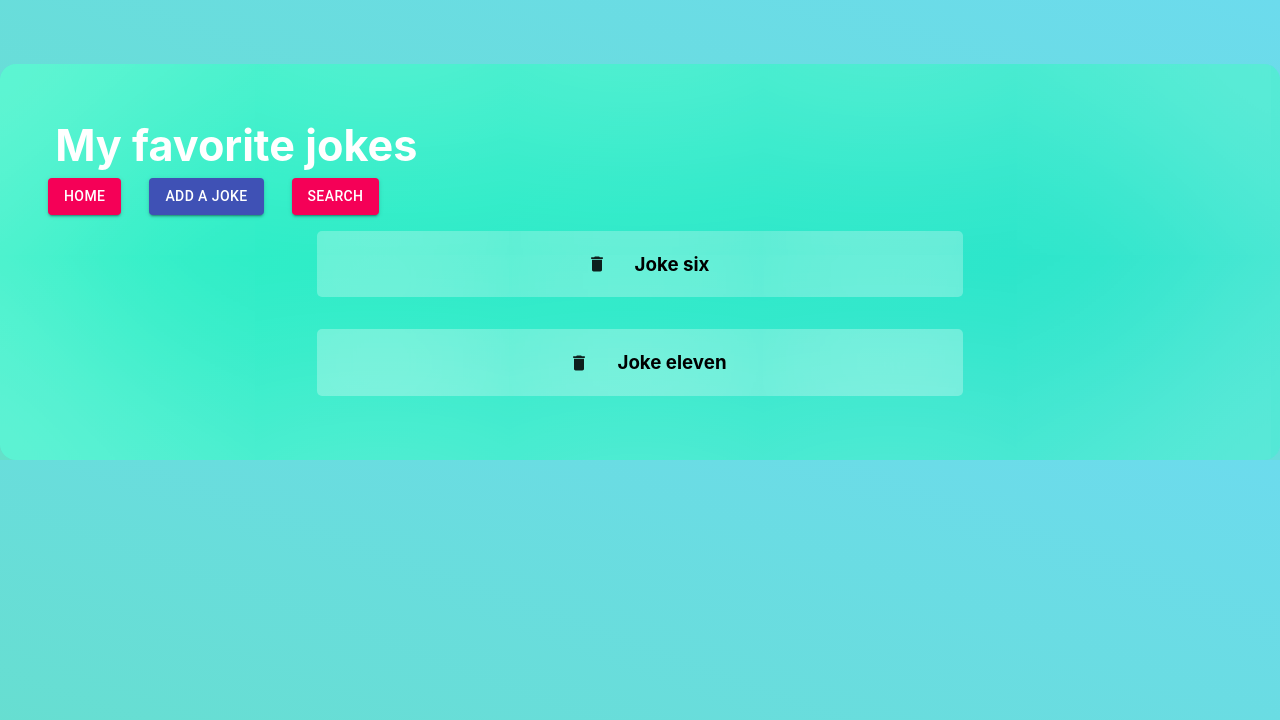
it: Saved › should show a list of jokes that include the search word
Click the button "Search".
click(335, 197)  # box [292,178,379,215]
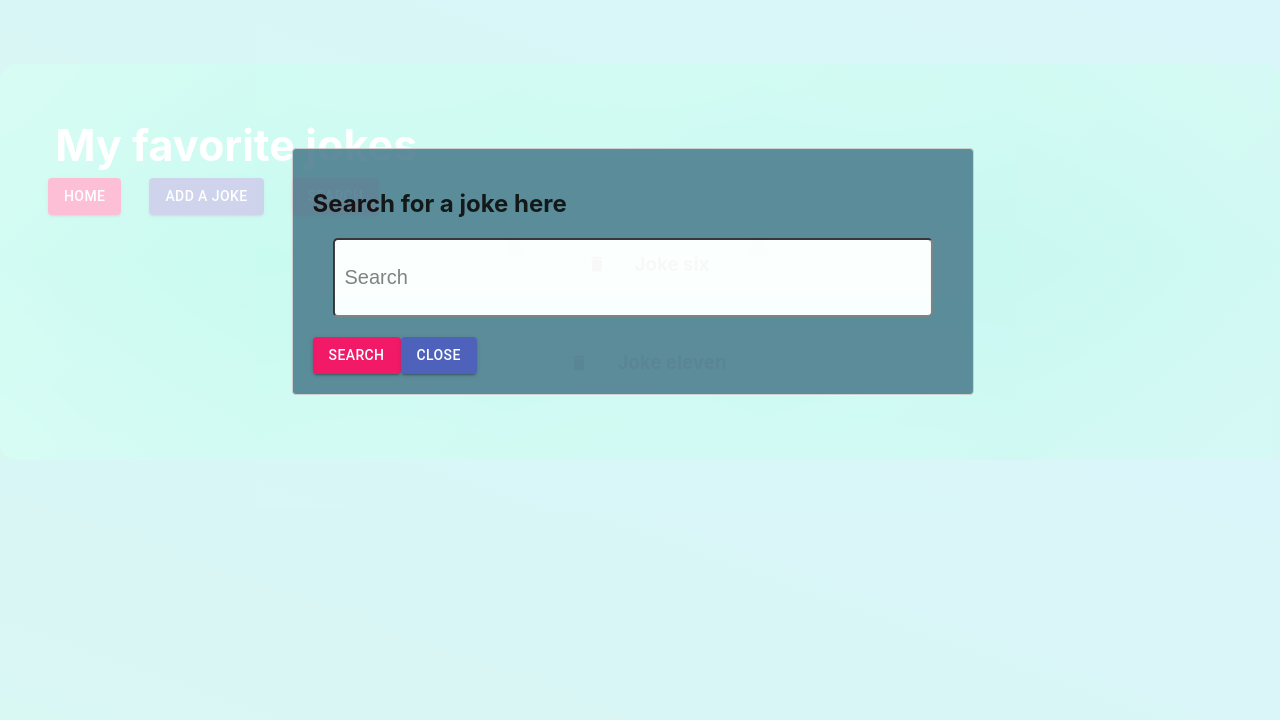
Now the heading "Search for a joke here" is shown, box [312,189,567,218]
Type "eleven" into the search field with placeholder "Search".
click(632, 278); type("eleven")  # box [332,238,932,317]
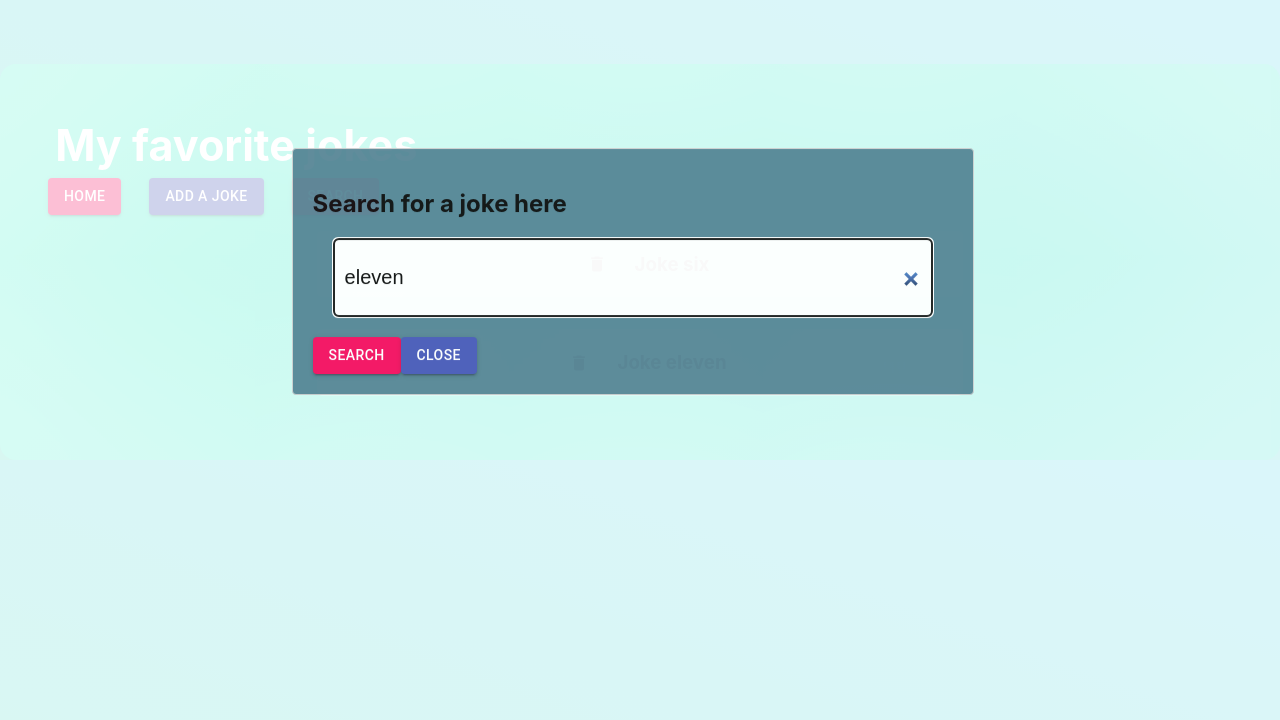
Click the button with test id "search-button".
click(356, 356)  # box [312,337,400,374]
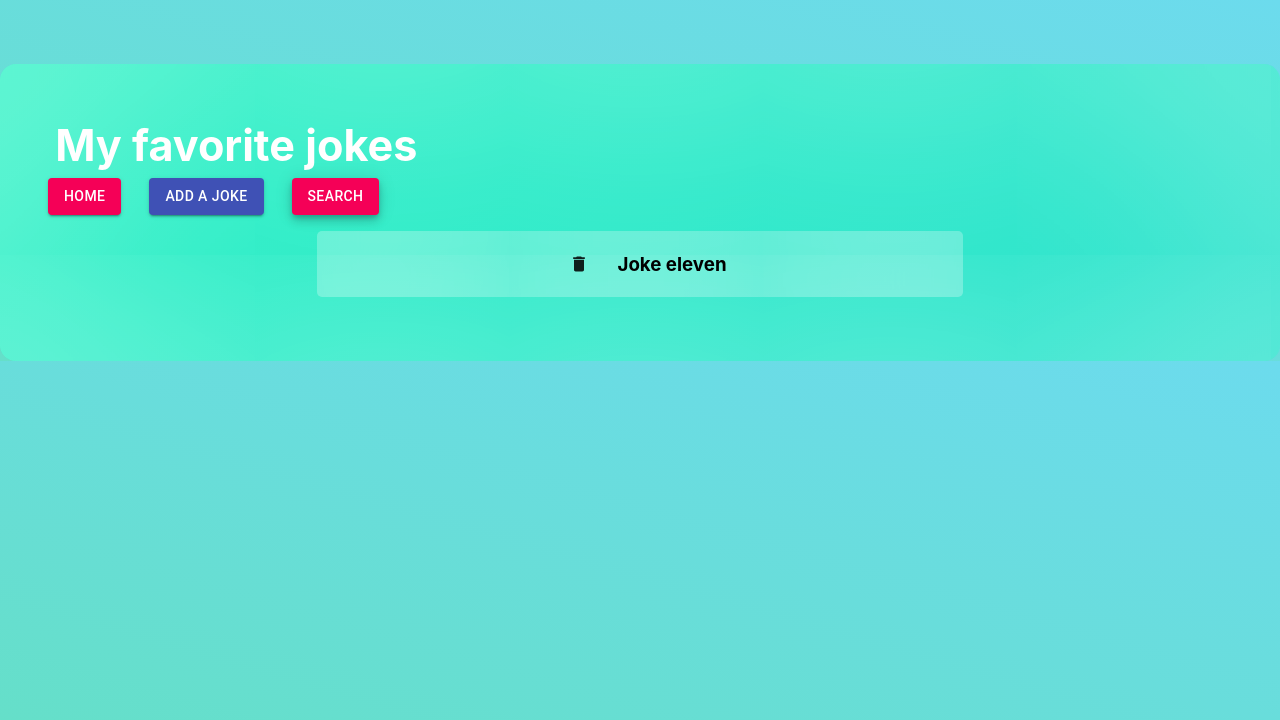
Expected: the heading "Joke eleven" is shown, [618,253,727,276]
Now the heading "Joke six" is gone
